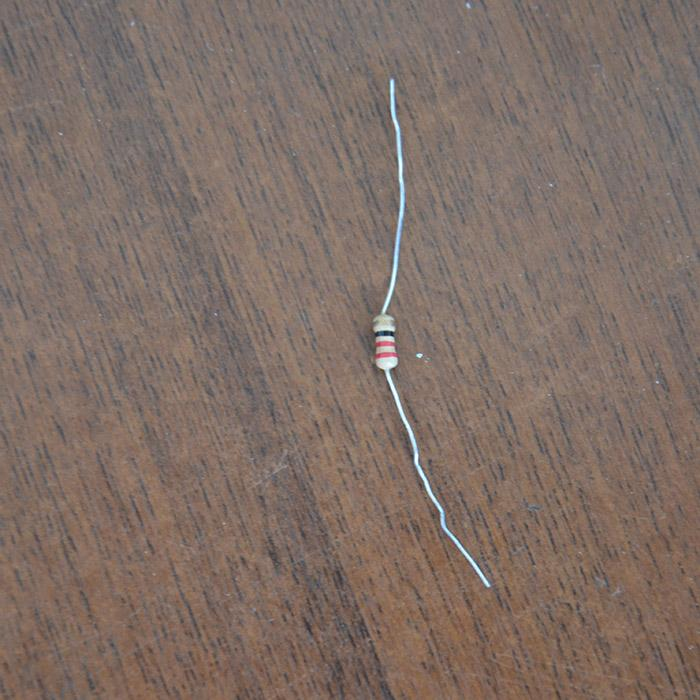resistor: (372, 312, 398, 368)
